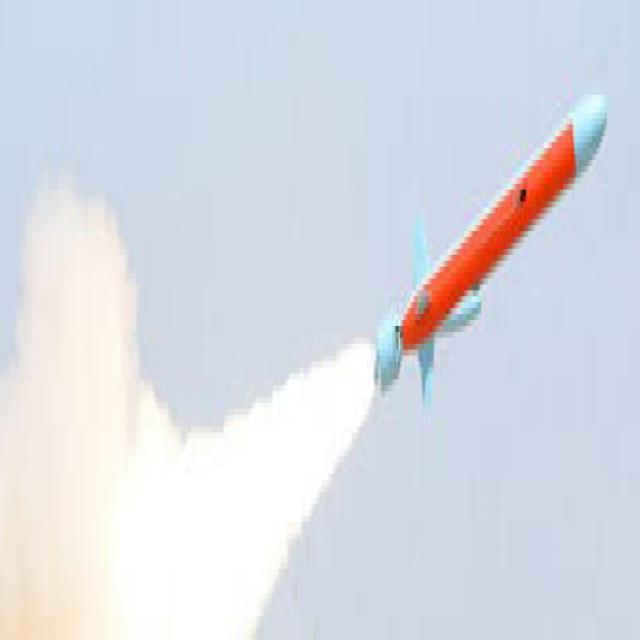Missile: (373, 74, 608, 422)
